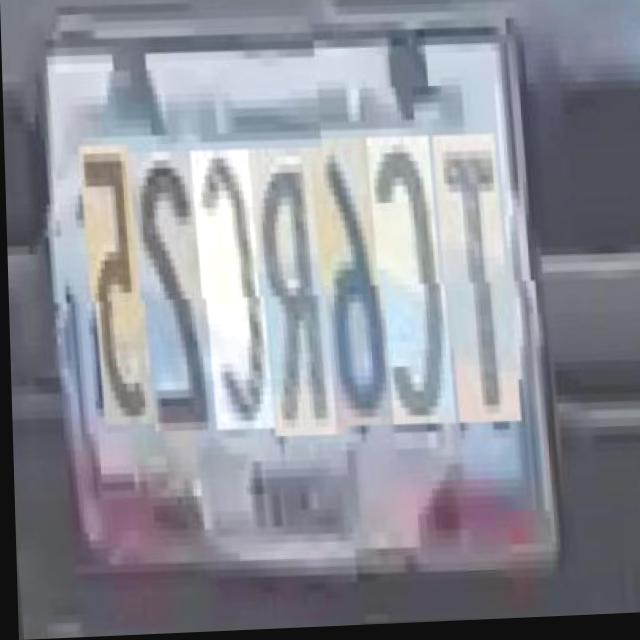2: (125, 153, 206, 437)
5: (75, 147, 142, 429)
6: (306, 149, 382, 440)
c: (364, 147, 445, 439), (187, 151, 262, 434)
r: (244, 151, 325, 442)
t: (430, 146, 511, 437)
